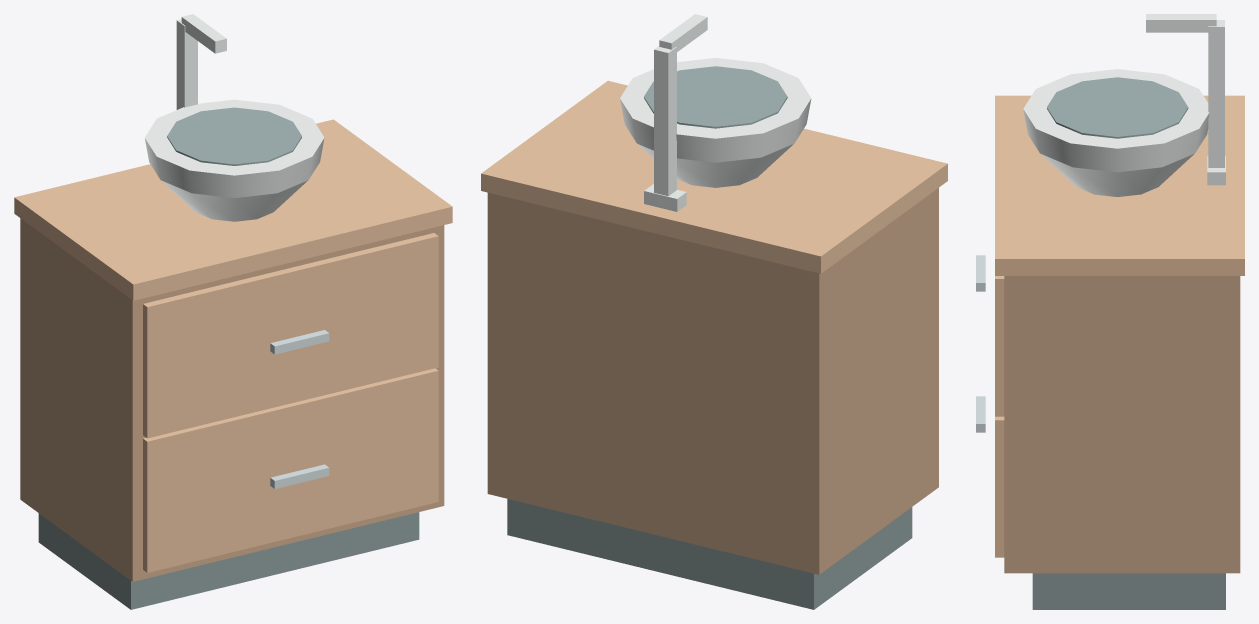
File: vanityVessel.glb
3 views of the same model, side by side, from view 1: azimuth 30°, elevation 25°; view 2: azimuth 150°, elevation 25°; view 3: azimuth 270°, elevation 25° (orthographic). The views are drawn at different scales.
Visible parts, largest first — view 1: vanityVessel; view 2: vanityVessel; view 3: vanityVessel.
Boxes of the visible parts, x1,y1,x2,y2 form: vanityVessel: (14,14,452,609); vanityVessel: (481,14,947,609); vanityVessel: (976,14,1244,609).
Size of the model in its own units: 0.41 by 0.6075 by 0.285.
